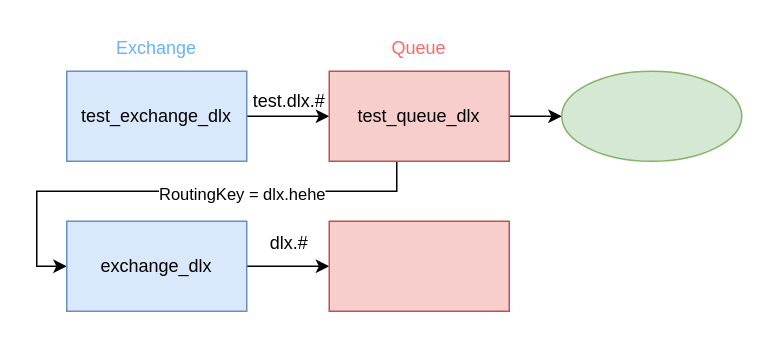
Image size: 768x338. Some labels were removed from this diagram. Each missing label, with the centre of its shape:
"Consumer" belongs at point 651,115.
"queue_dlx" belongs at point 418,265.
